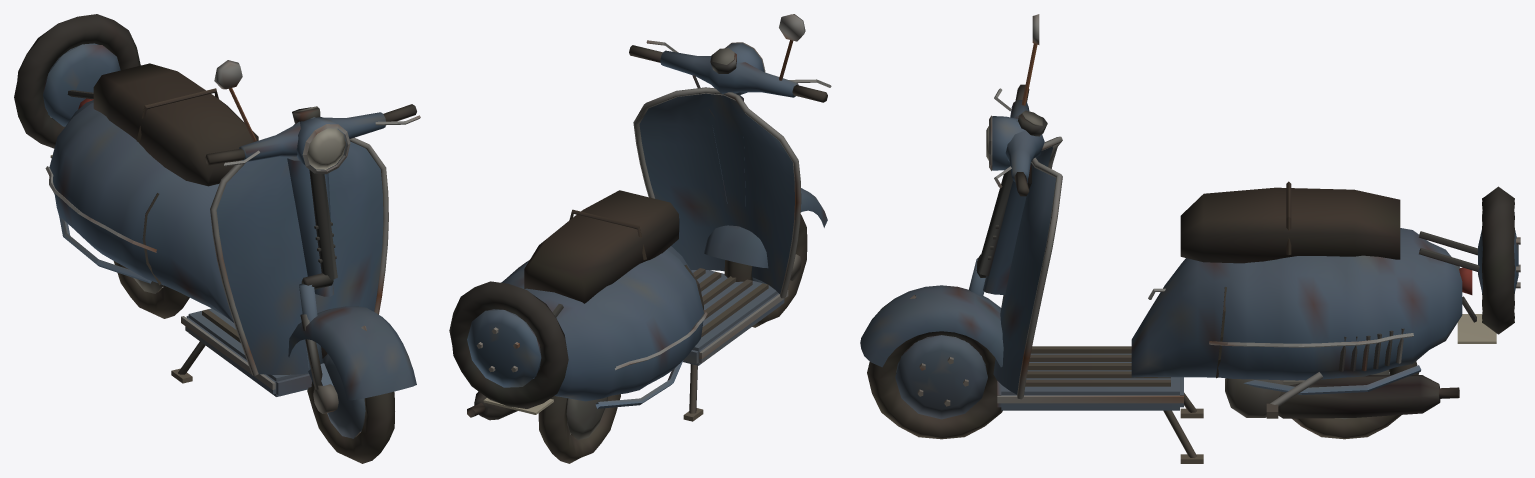
File: scooter_open_v2.glb
The picture shows the model from 3 angles, left to right: view 1: azimuth 30°, elevation 25°; view 2: azimuth 150°, elevation 25°; view 3: azimuth 270°, elevation 25°; orthographic projection. The views are drawn at different scales.
Visible parts, largest first — view 1: hb_metal, hb_main; view 2: hb_metal, hb_main; view 3: hb_metal, hb_main.
Part boxes in pixels (left/top/right/bottom): hb_metal: left=43, top=43, right=420, bottom=438; hb_main: left=14, top=14, right=416, bottom=463; hb_metal: left=467, top=14, right=831, bottom=440; hb_main: left=449, top=45, right=827, bottom=463; hb_metal: left=860, top=14, right=1520, bottom=458; hb_main: left=867, top=84, right=1514, bottom=463.
Size of the model in its own units: 0.7708 by 1.31 by 2.02.
